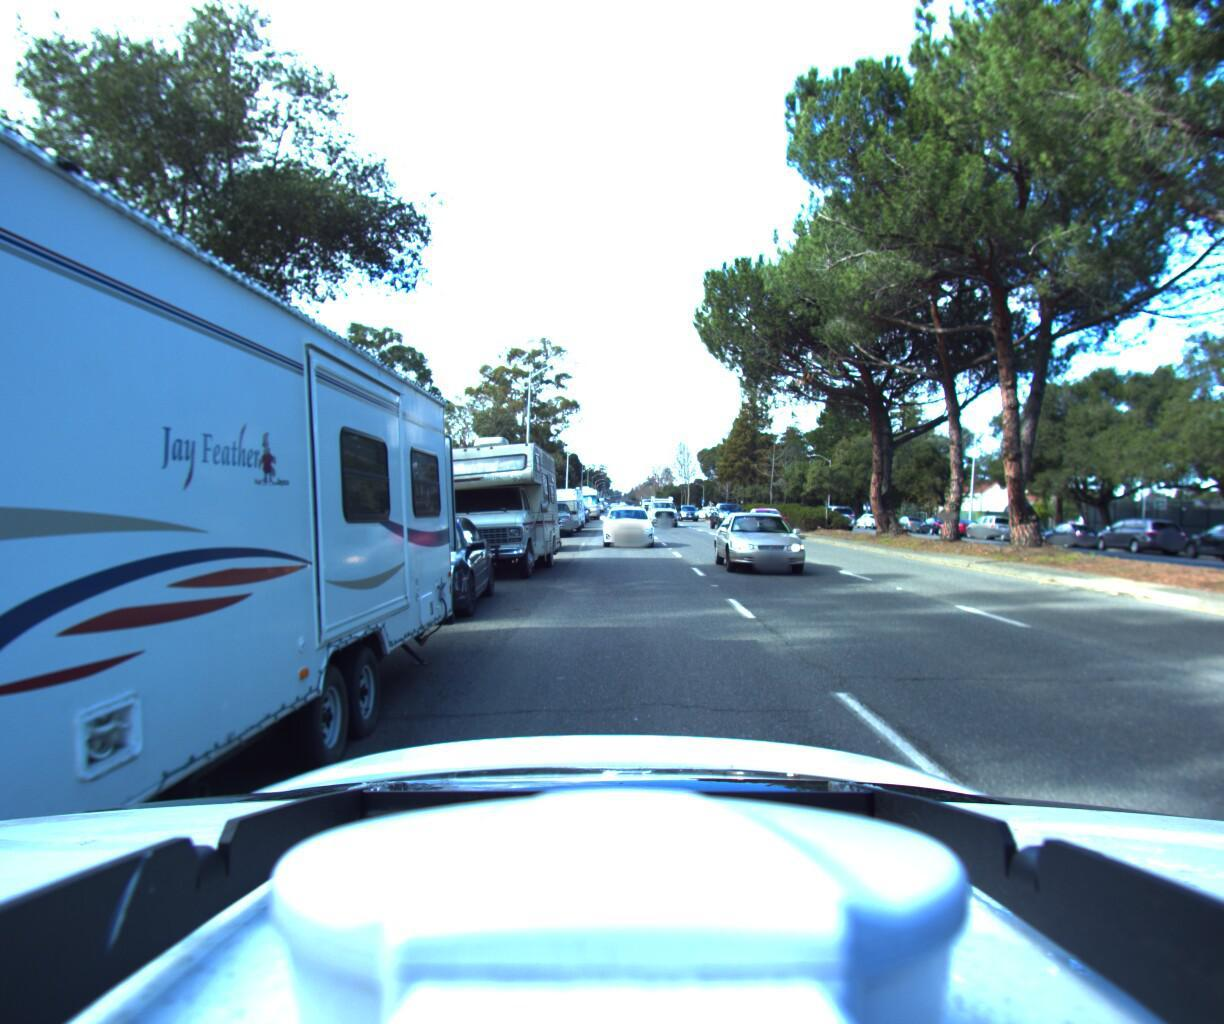car: (312, 511, 498, 627), (715, 507, 830, 582), (1095, 514, 1190, 554), (1166, 517, 1224, 564), (599, 501, 654, 547), (1036, 518, 1106, 547), (745, 502, 797, 537), (529, 501, 571, 538), (963, 513, 1018, 540), (998, 518, 1053, 543), (709, 500, 751, 530), (647, 492, 681, 526), (935, 513, 982, 536), (891, 513, 929, 534), (678, 499, 701, 518)
other_vehicle: (420, 434, 562, 584), (533, 484, 586, 534), (571, 484, 598, 519)
